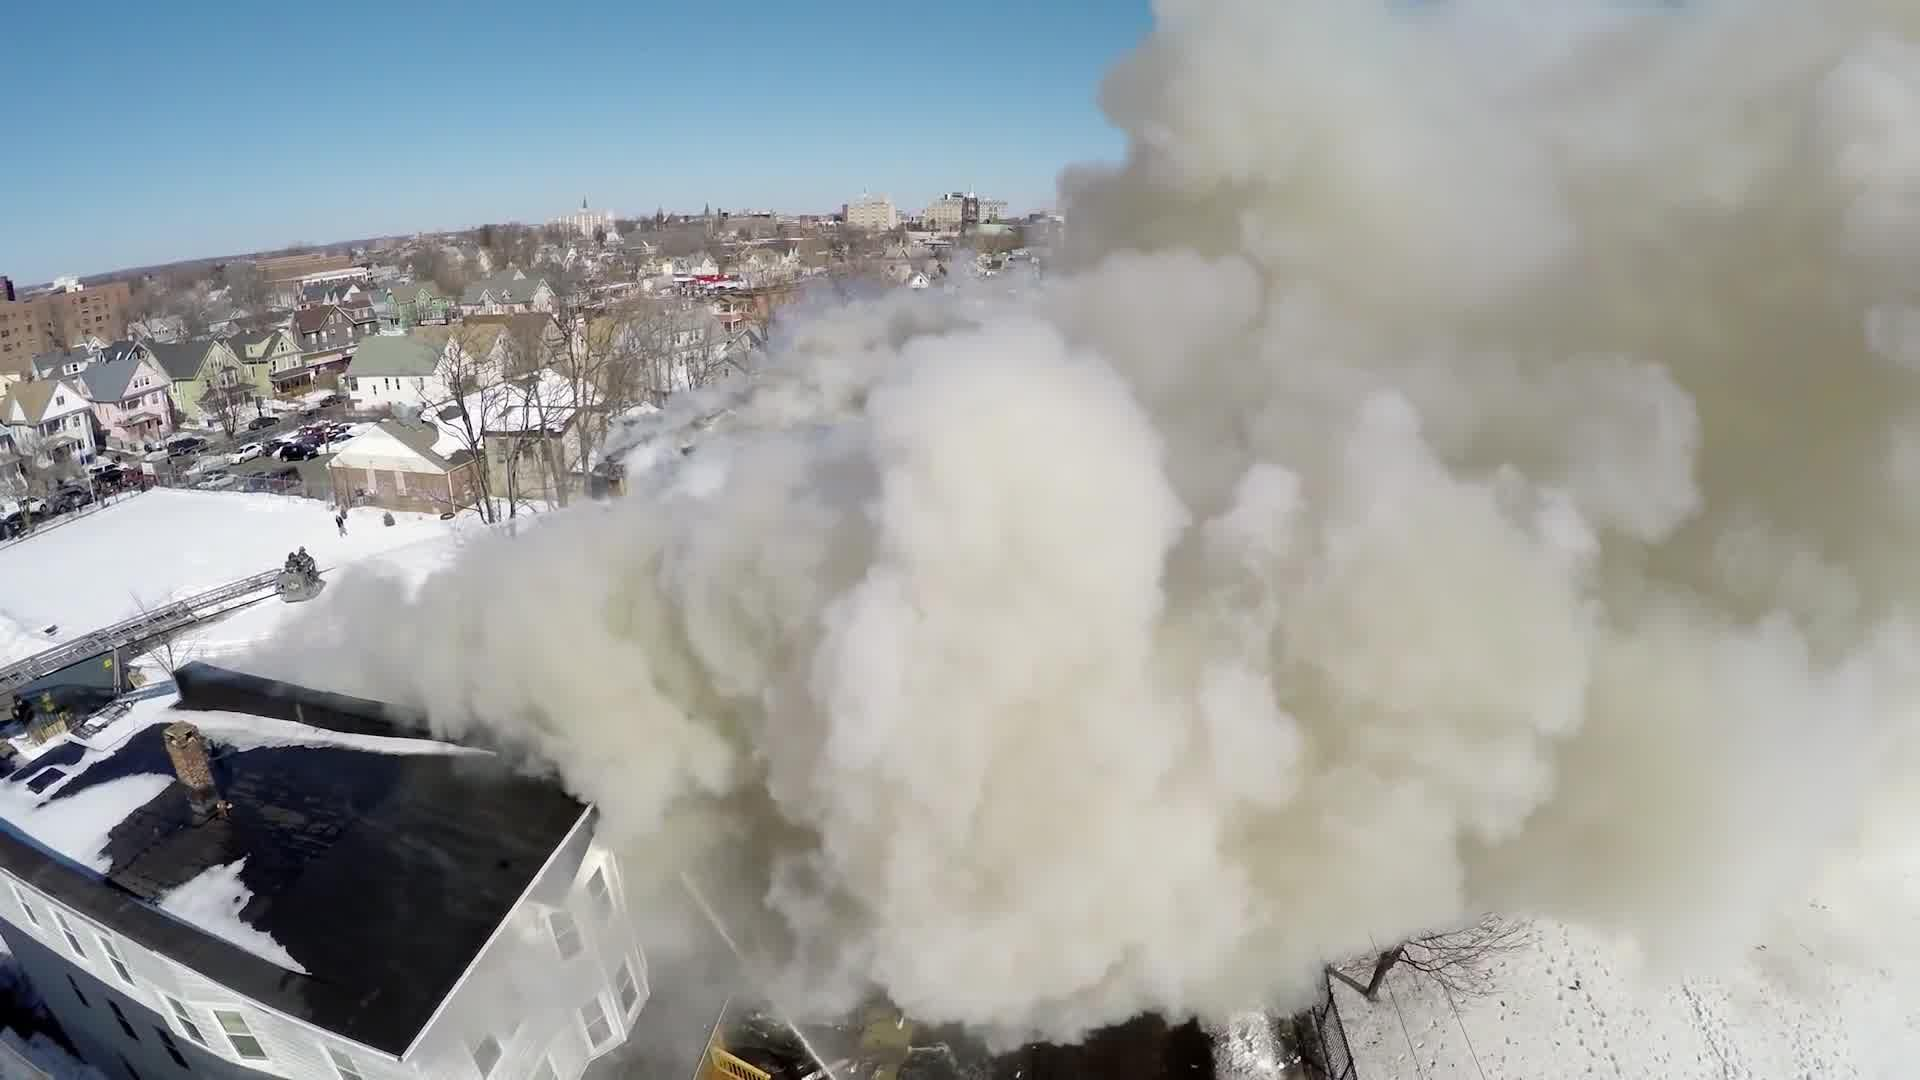smoke: (824, 427, 1807, 839), (1178, 17, 1920, 402)
